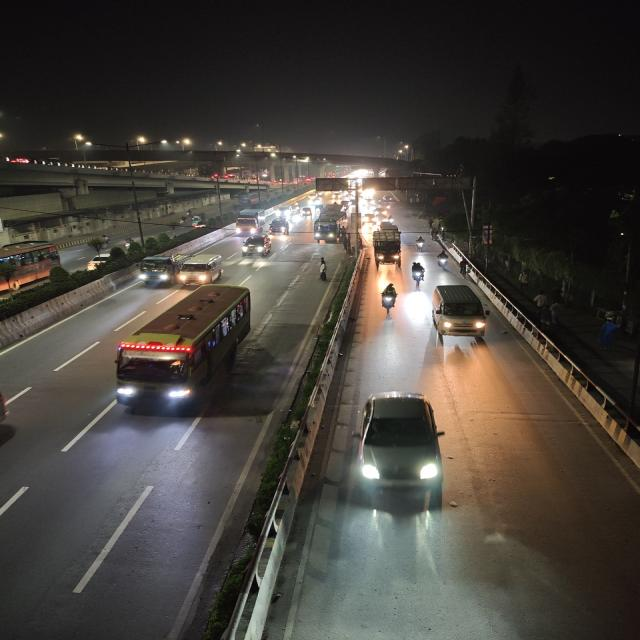bus: (107, 282, 255, 416), (0, 239, 64, 295), (312, 207, 349, 245)
car: (352, 388, 450, 511), (427, 282, 492, 342), (176, 251, 226, 287), (239, 233, 276, 258), (269, 219, 292, 236), (372, 206, 390, 218)
cng: (136, 254, 178, 288)
motorcycle: (377, 280, 399, 316), (410, 259, 428, 287), (436, 249, 452, 271), (413, 234, 427, 252), (300, 206, 314, 219)
pedestrian: (315, 257, 332, 282)
truck: (369, 227, 404, 268), (234, 205, 266, 235)
